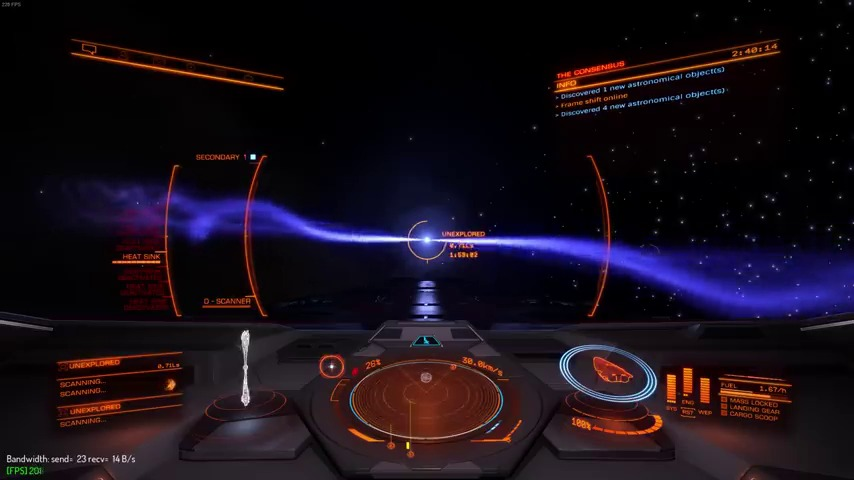jetcone: (455, 221, 851, 326), (457, 224, 851, 323), (117, 187, 399, 258)
